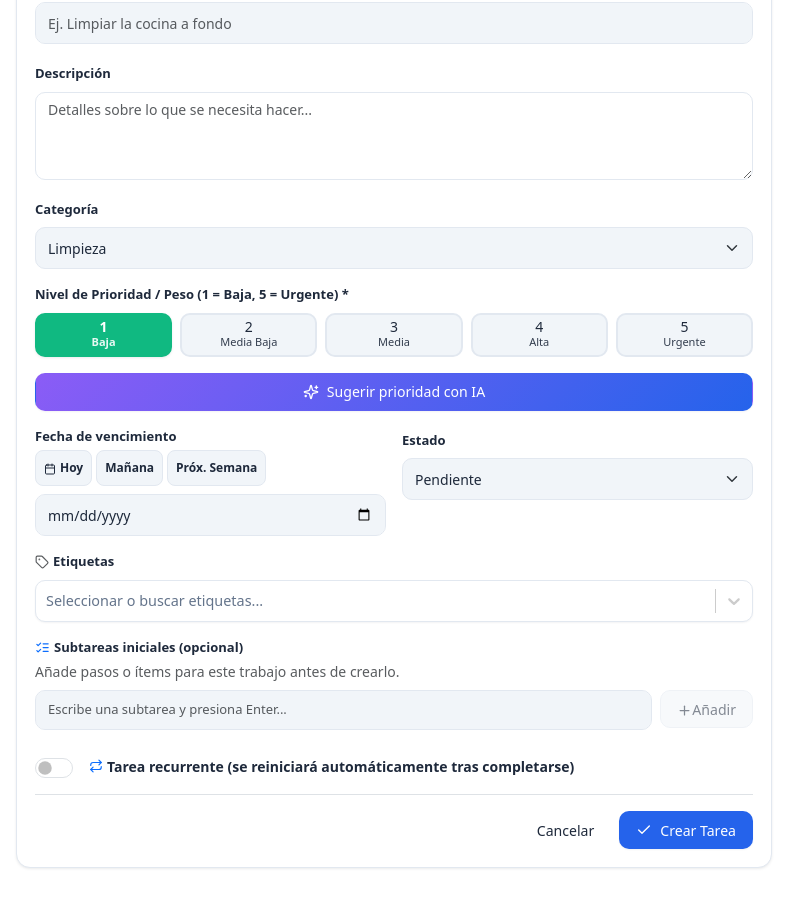
TaskForm Component › muestra error si se intenta enviar un título vacío o con solo espacios
(page scrolled)
Click the button "Crear Tarea" at (686, 830), box [619,811,753,849]
(page scrolled)
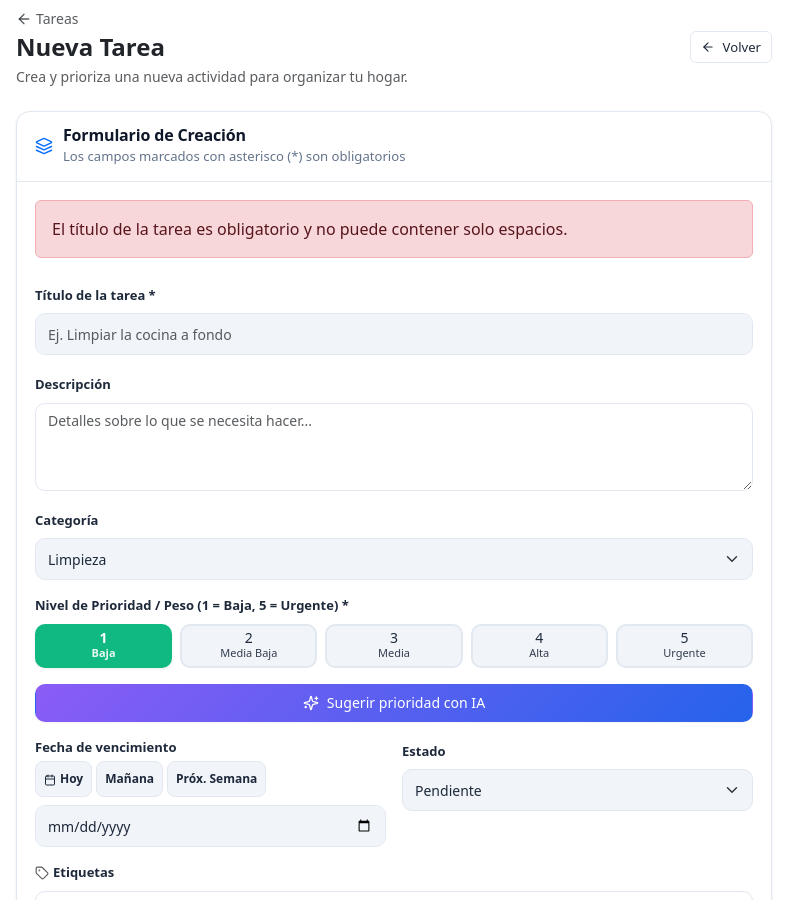
Check: the text "El título de la tarea es obligatorio y no puede contener solo espacios." is shown, box [35,200,753,258]
